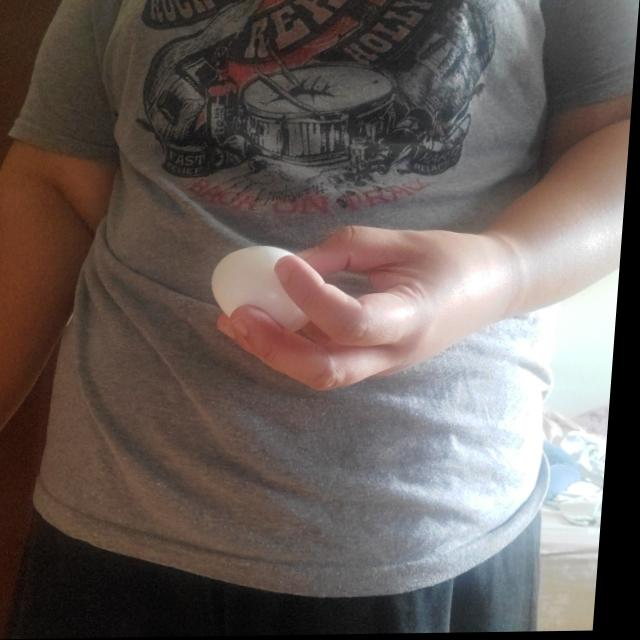egg: (212, 244, 329, 331)
